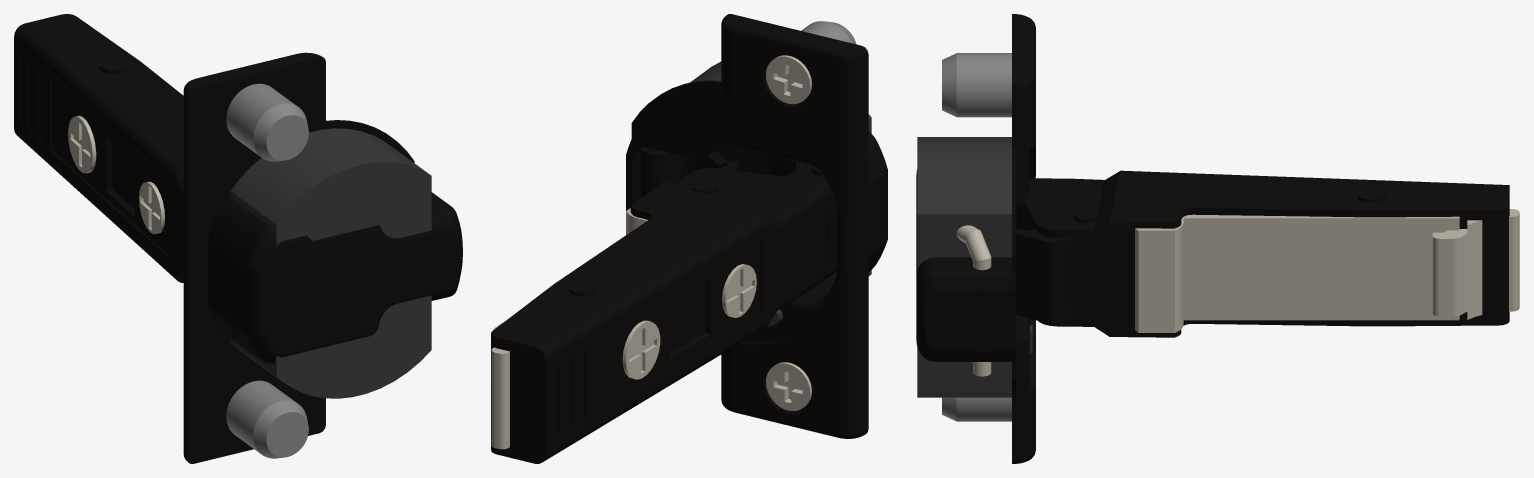
3 renders of one model, left to right at view 1: azimuth 30°, elevation 25°; view 2: azimuth 150°, elevation 25°; view 3: azimuth 270°, elevation 25°, orthographic. The views are drawn at different scales.
Visible parts, largest first — view 1: bau0015166285-1, bau0015166656-1, bau0059100308-2, bau0059100308-1; view 2: bau0015166656-1, bau0015166285-1, bau0059100308-2, bau0015167363-1, bau0019426112-1, bau0059100308-1, bau0015167707-1; view 3: bau0019426112-1, bau0015166656-1, bau0015166285-1, bau0015167363-1, bau0059100308-2, bau0059100308-1.
Boxes of the visible parts, bbox=[...] form: bau0015166285-1: bbox=[183, 52, 462, 463]; bau0015166656-1: bbox=[14, 14, 183, 282]; bau0059100308-2: bbox=[226, 83, 308, 161]; bau0059100308-1: bbox=[226, 380, 308, 458]; bau0015166656-1: bbox=[491, 163, 836, 463]; bau0015166285-1: bbox=[626, 14, 887, 438]; bau0059100308-2: bbox=[766, 21, 856, 104]; bau0015167363-1: bbox=[640, 146, 739, 197]; bau0019426112-1: bbox=[491, 208, 647, 449]; bau0059100308-1: bbox=[766, 362, 811, 410]; bau0015167707-1: bbox=[715, 144, 805, 175]; bau0019426112-1: bbox=[1135, 209, 1519, 332]; bau0015166656-1: bbox=[1015, 170, 1509, 337]; bau0015166285-1: bbox=[916, 14, 1035, 463]; bau0015167363-1: bbox=[974, 227, 1072, 351]; bau0059100308-2: bbox=[942, 53, 1011, 117]; bau0059100308-1: bbox=[942, 397, 1011, 421].
Size of the model in its own units: 37.09 by 57 by 80.8.
